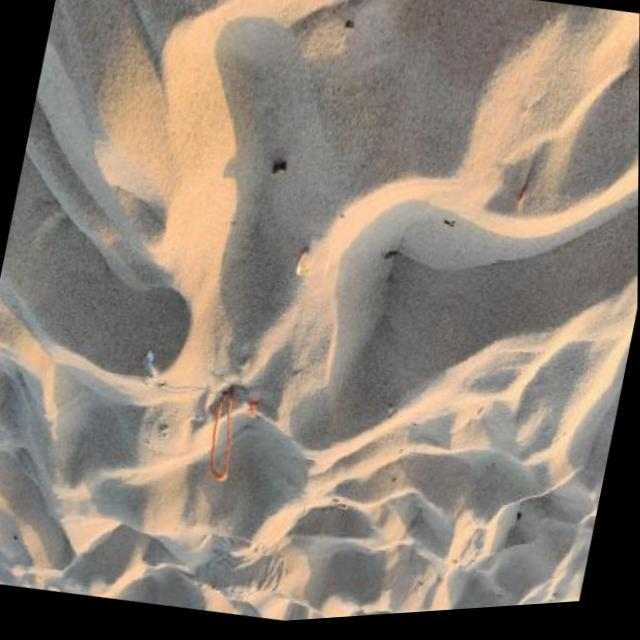other: (204, 386, 245, 483)
